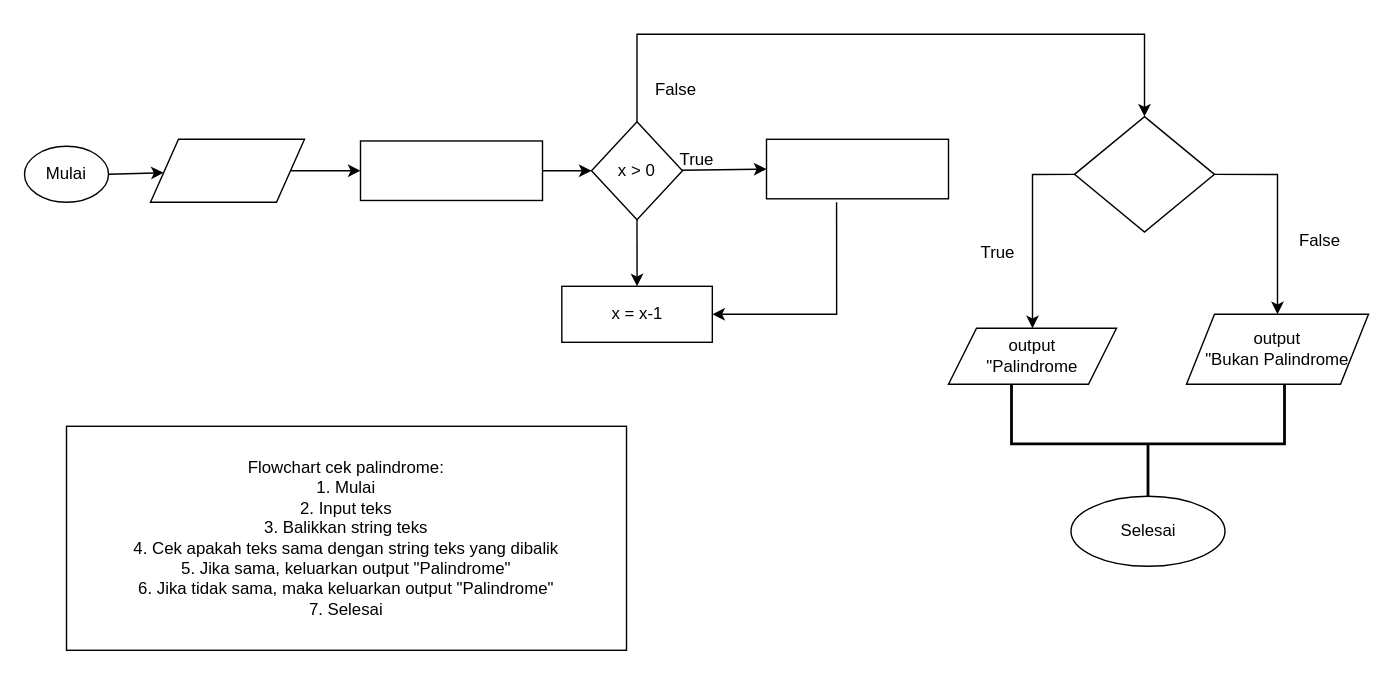
This 1393x675 diagram has some shape labels left out. The box of each missing label's shape, as (x1, y1, x2, y2) in pixels:
hasil = hasil + text(x): (765, 138, 948, 199)
Input teks: (149, 138, 304, 202)
teks == hasil: (1073, 115, 1214, 232)
x = teks.length - 1: (359, 140, 542, 200)
